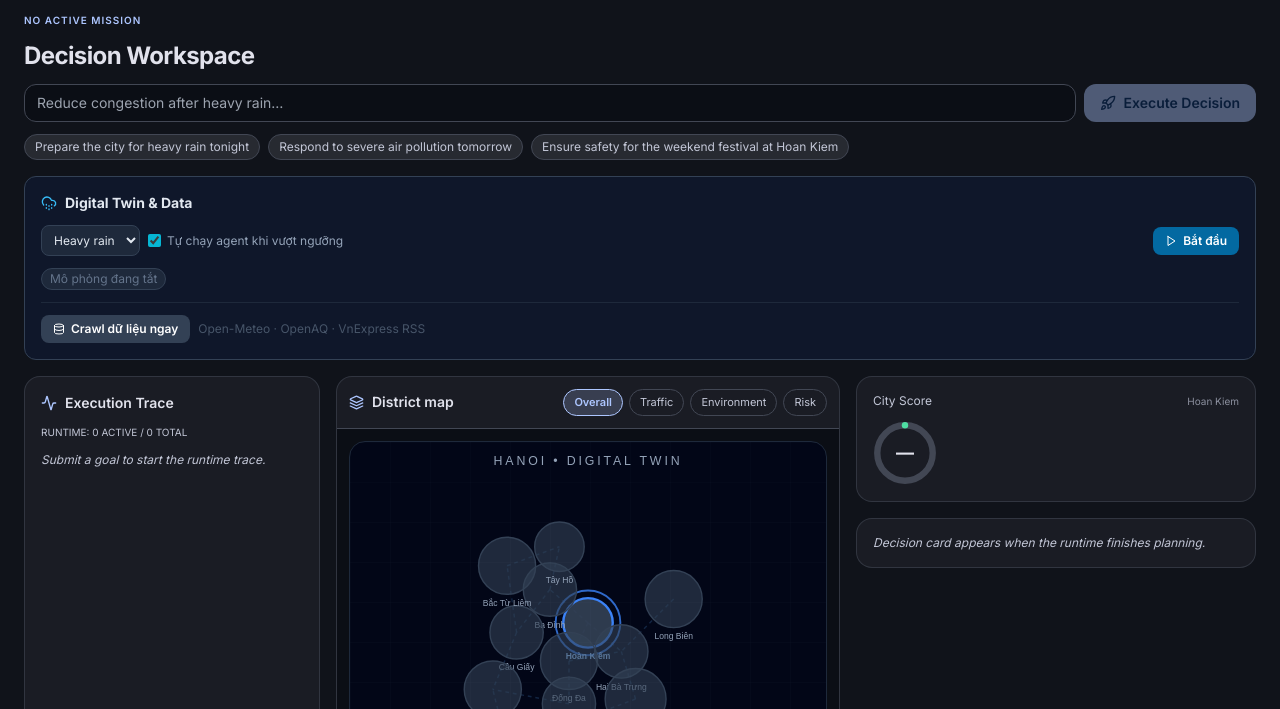
Test: DecisionWorkspacePage › submits a goal and shows approve controls
The width and height of the screenshot is (1280, 709).
Type "Reduce congestion after rain" into the field with placeholder "Reduce congestion after heavy rain…" at (550, 103), box [24,84,1076,122]
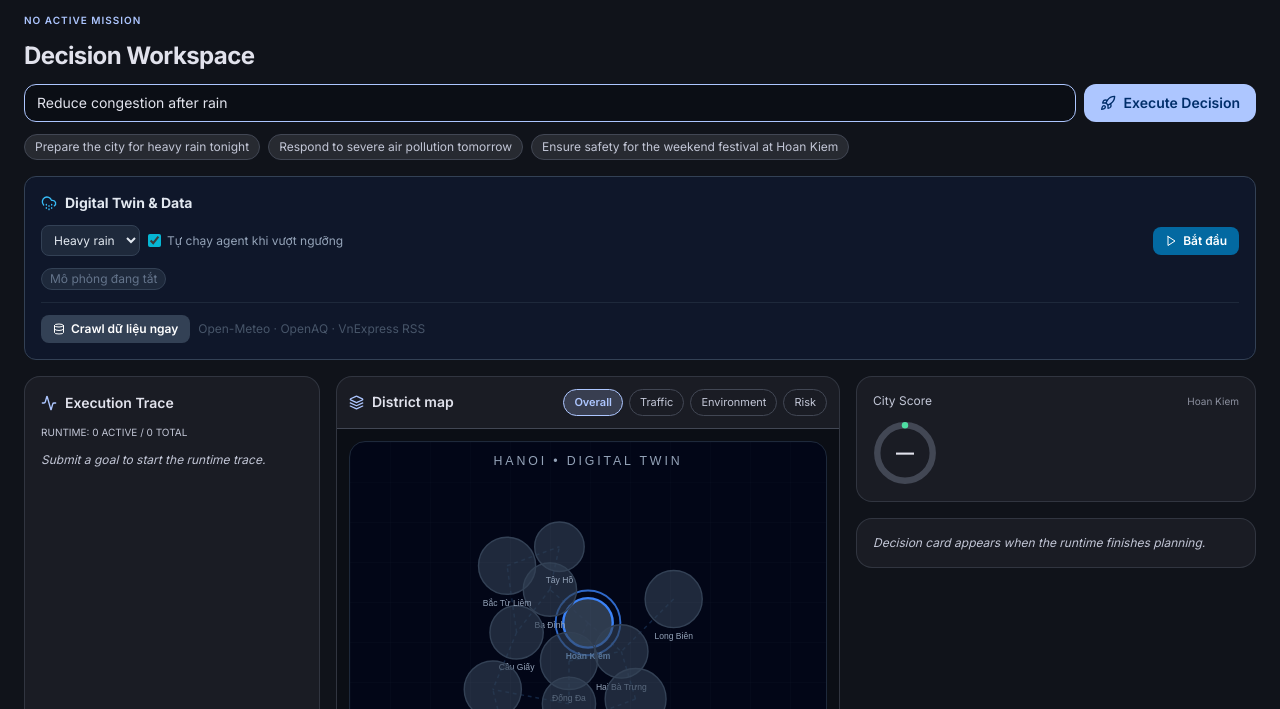
Click the button "Execute Decision" at (1170, 103), box [1084,84,1256,122]
(page scrolled)
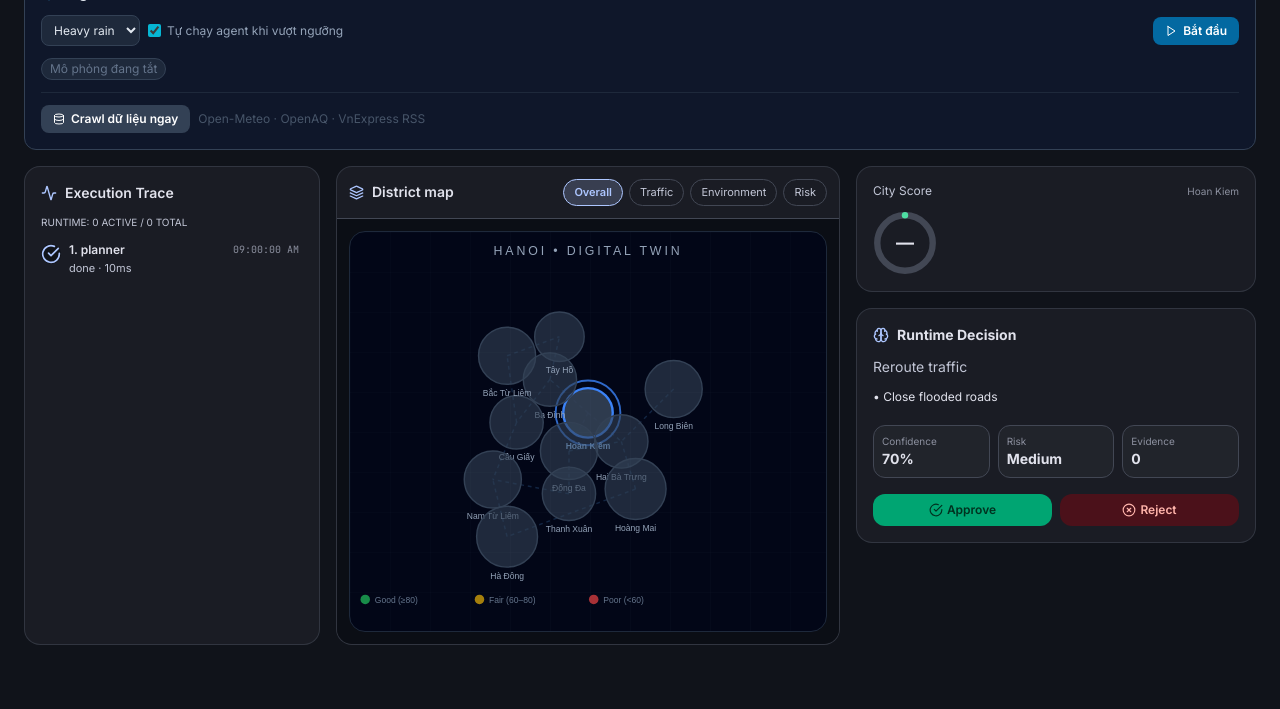
Expected: the button "Approve" is shown, [873,494,1052,526]
